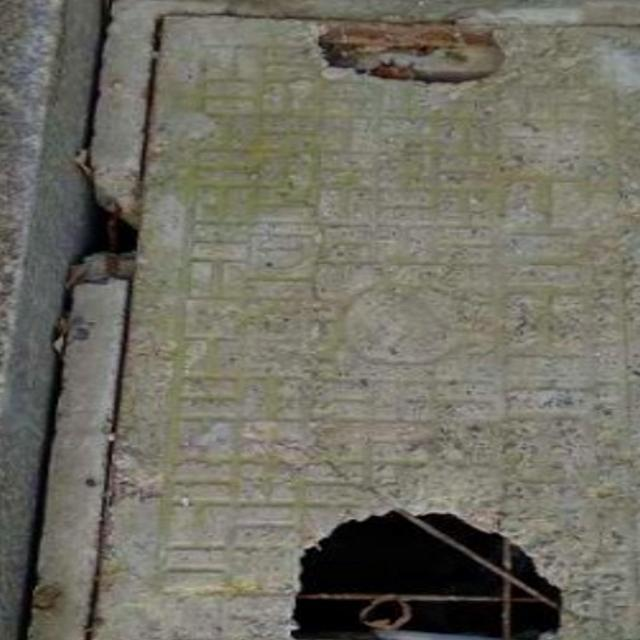broke: (22, 0, 640, 640)
